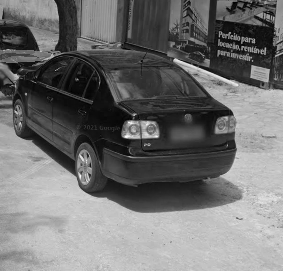car: (11, 43, 239, 197)
